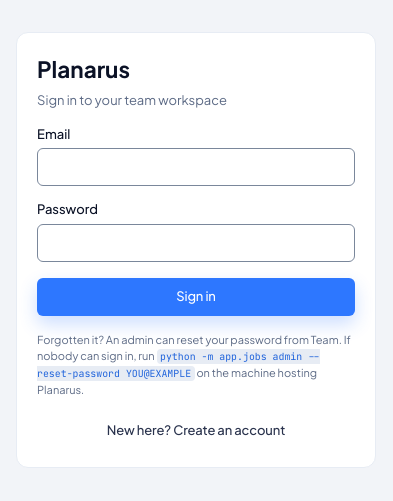
Test case: AuthGate › shows a friendly error on bad credentials
The image size is (393, 501).
Type "pat@team.lan" into the field labelled "Email".
click(196, 167); type("pat@team.lan")  # box 37,148 -> 355,186
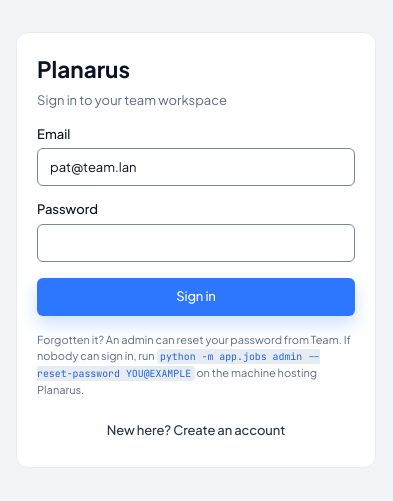
Type "wrong password 42" into the password field labelled "Password".
click(196, 243); type("wrong password 42")  # box 37,224 -> 355,262
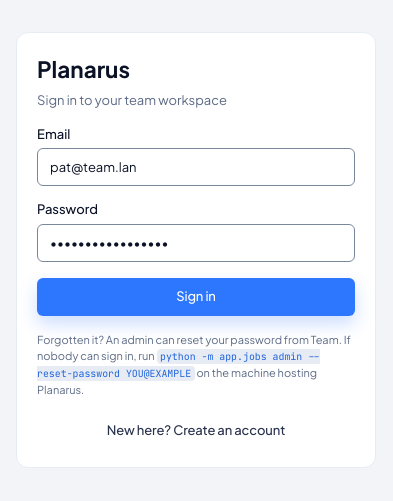
Click the button "Sign in".
click(196, 297)  # box 37,278 -> 355,316
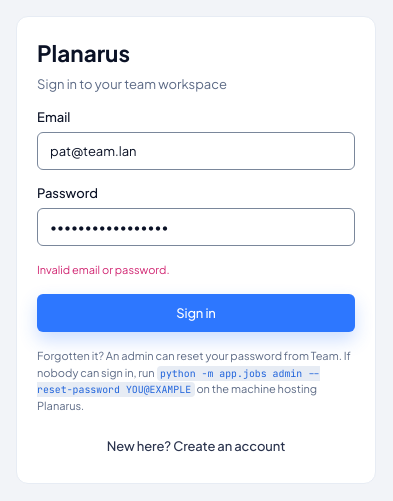
Now the text "Invalid email or password." is shown, box 37,263 -> 170,276
